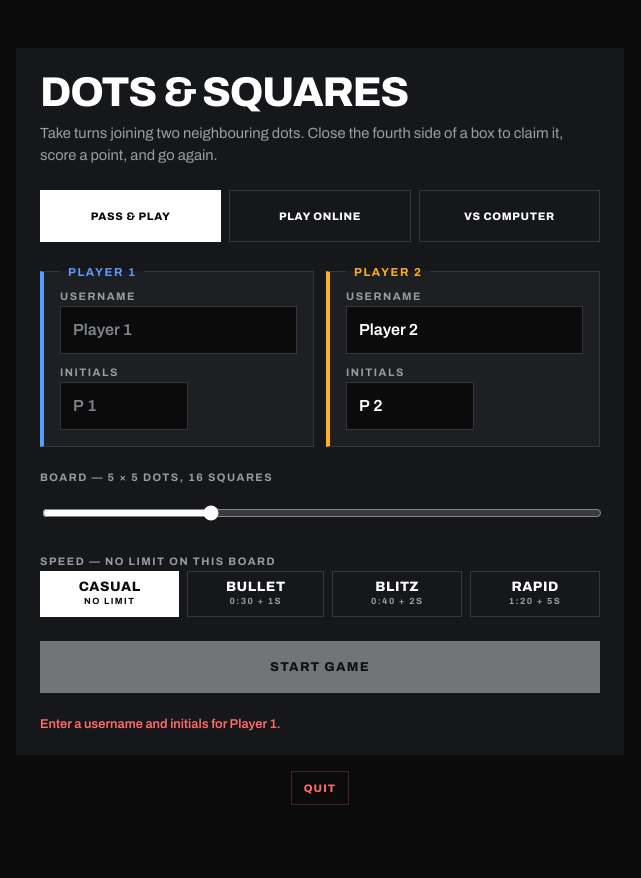
Test: playing a match › renders a full board of clickable edges once started
The width and height of the screenshot is (641, 878).
In the 1st field labelled "Username": (178, 330) x1=60 y1=306 x2=297 y2=354, type "Ada"
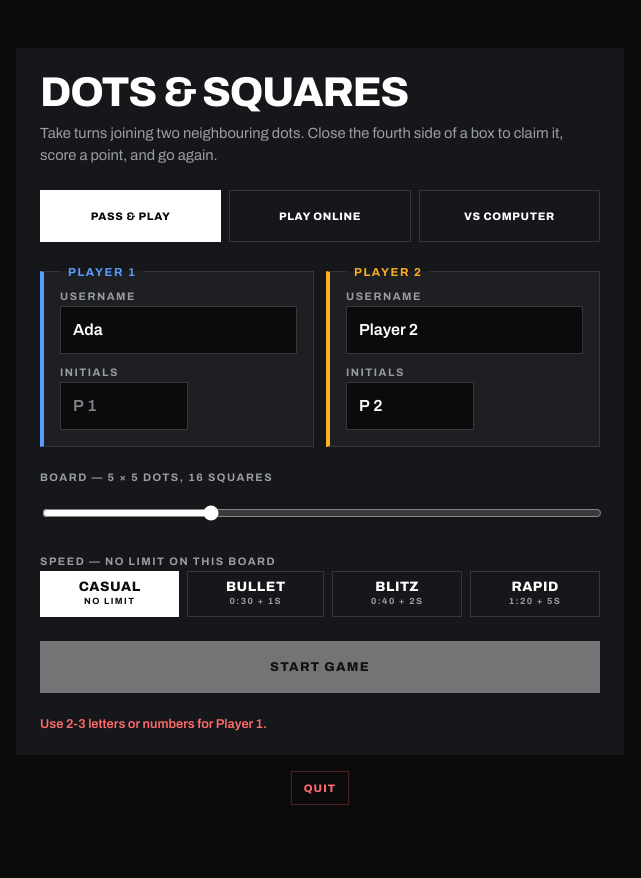
In the 1st field labelled "Initials": (124, 406) x1=60 y1=382 x2=188 y2=430, type "al"
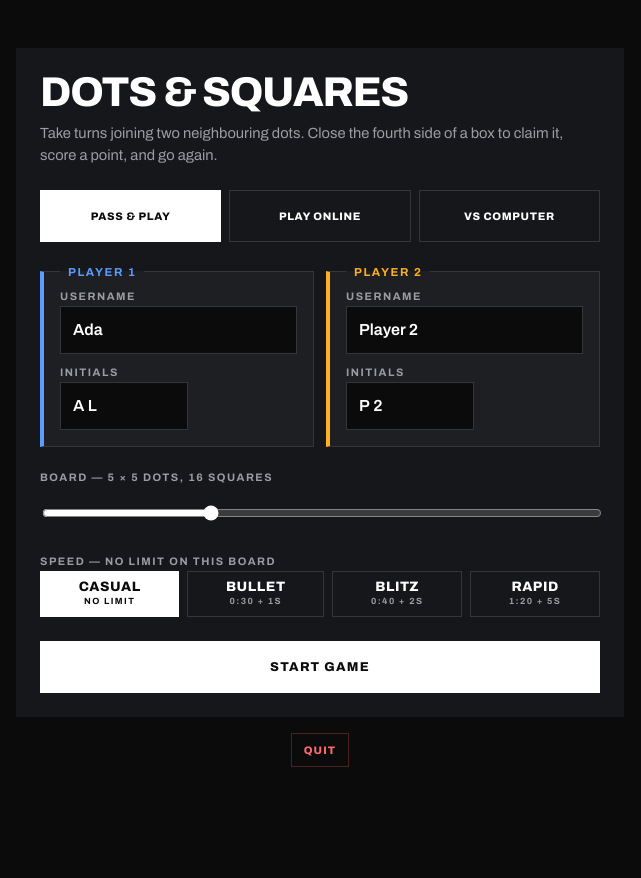
In the field labelled "Username" below "Player 2": (464, 330) x1=346 y1=306 x2=583 y2=354, type "Grace"
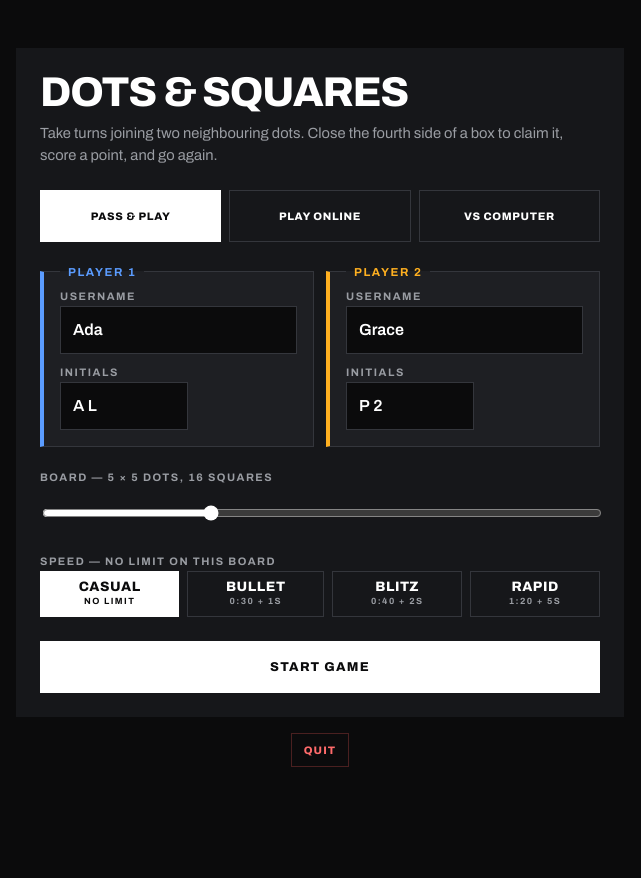
In the field labelled "Initials" below "Player 2": (410, 406) x1=346 y1=382 x2=474 y2=430, type "gh"
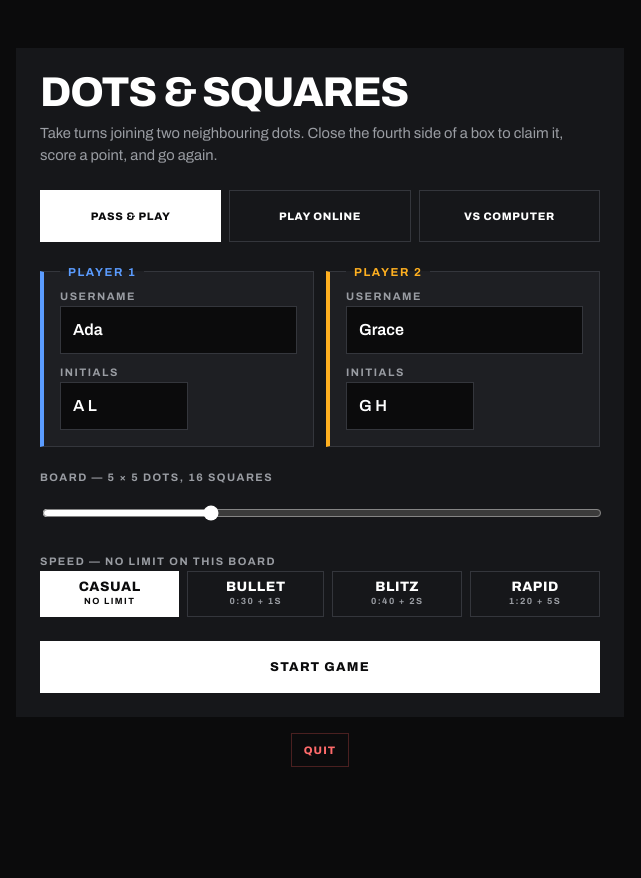
Set the slider labelled "Board — 5 × 5 dots, 16 squares" to "10": (594, 513) x1=42 y1=489 x2=602 y2=537
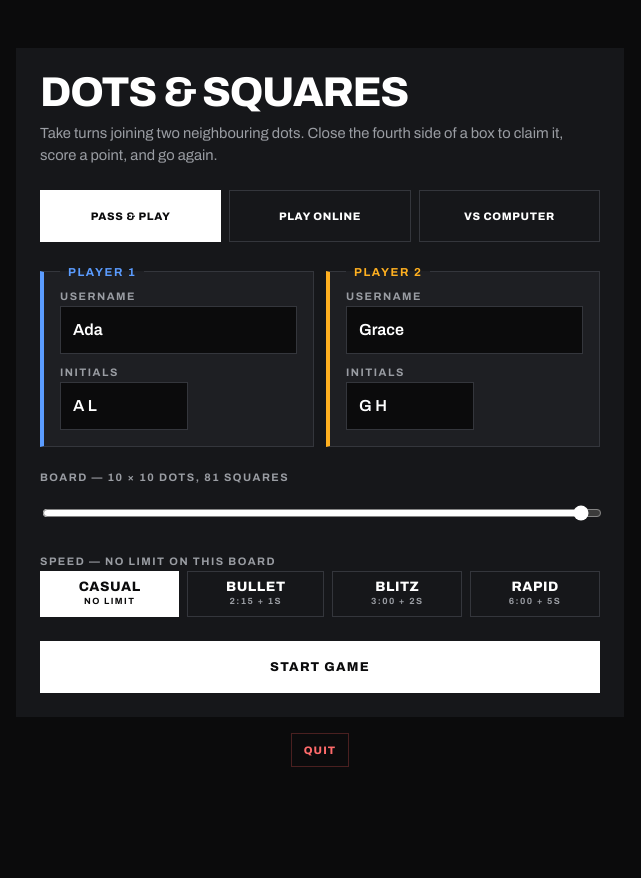
Click the button "Start Game": (320, 667) x1=40 y1=641 x2=600 y2=693
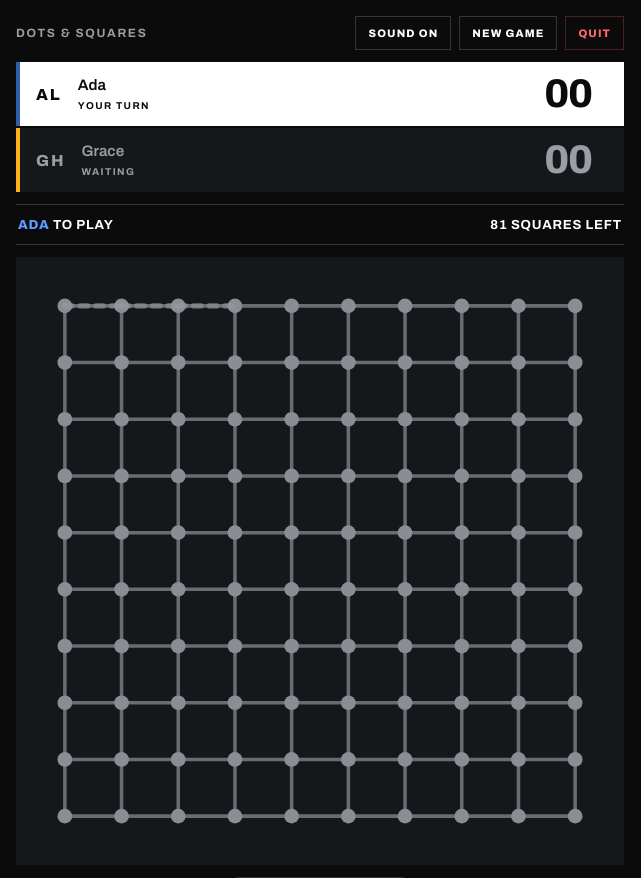
Now the table is shown
Now the element with class "turn-banner" shows "Ada", box x1=18 y1=217 x2=50 y2=232
